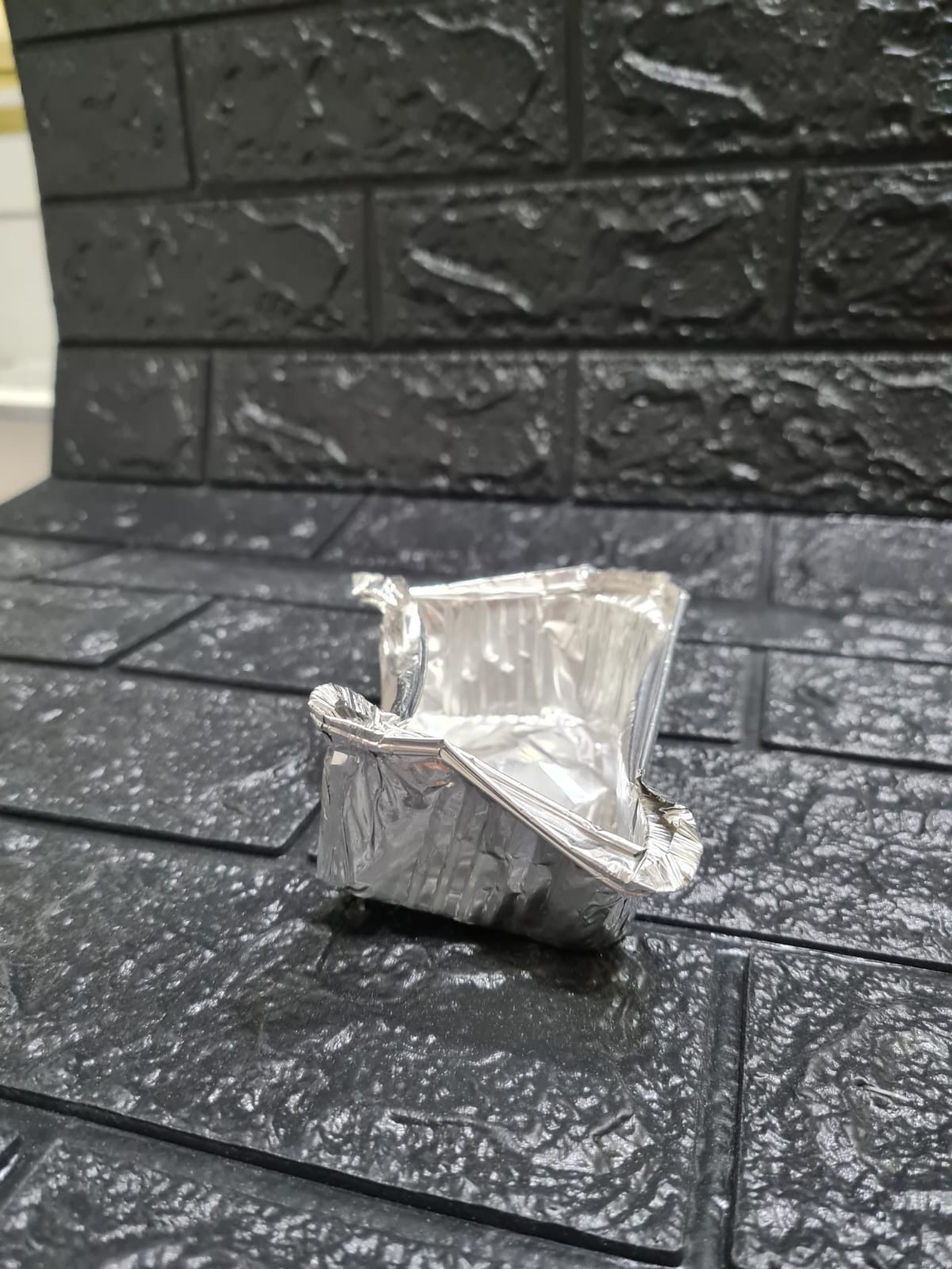Metal: (286, 574, 703, 937)
